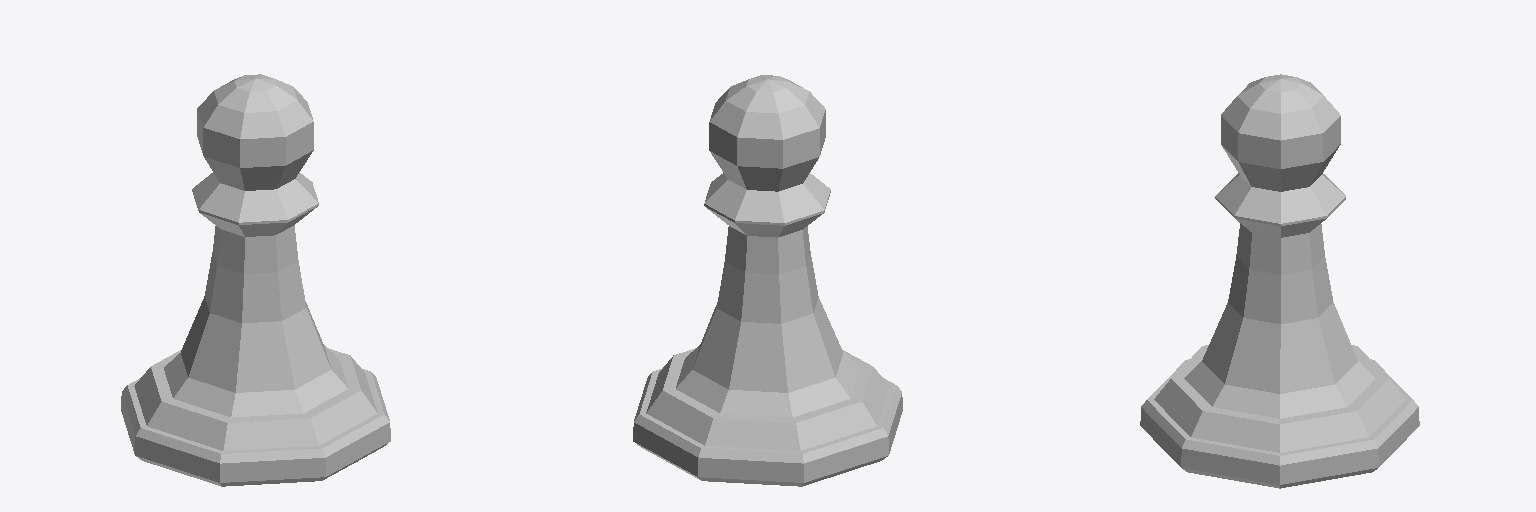
The model's file is chess.obj.
The picture shows the model from 3 angles: view 1: azimuth 30°, elevation 25°; view 2: azimuth 150°, elevation 25°; view 3: azimuth 270°, elevation 25°; orthographic projection.
Parts seen in each view (by area): view 1: node_id52; view 2: node_id52; view 3: node_id52.
Boxes of the visible parts, box(x1,y1,x2,y2) form: node_id52: box(121, 74, 390, 486); node_id52: box(633, 75, 902, 486); node_id52: box(1140, 74, 1419, 488).
Size of the model in its own units: 0.119 by 0.1663 by 0.119.